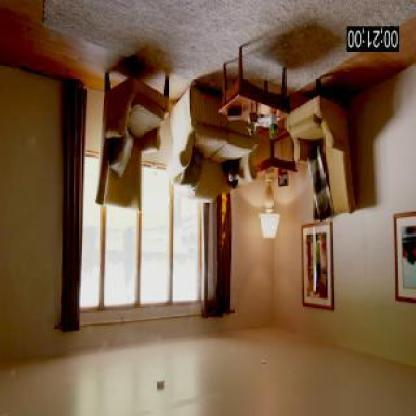Fire: (218, 191, 232, 248)
